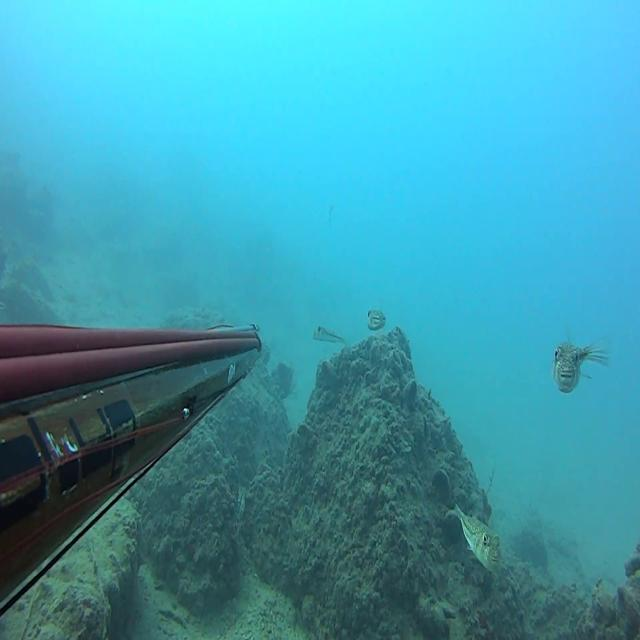Balon Baligi: (552, 322, 610, 394), (453, 502, 501, 572), (311, 325, 350, 348), (368, 307, 386, 330)
